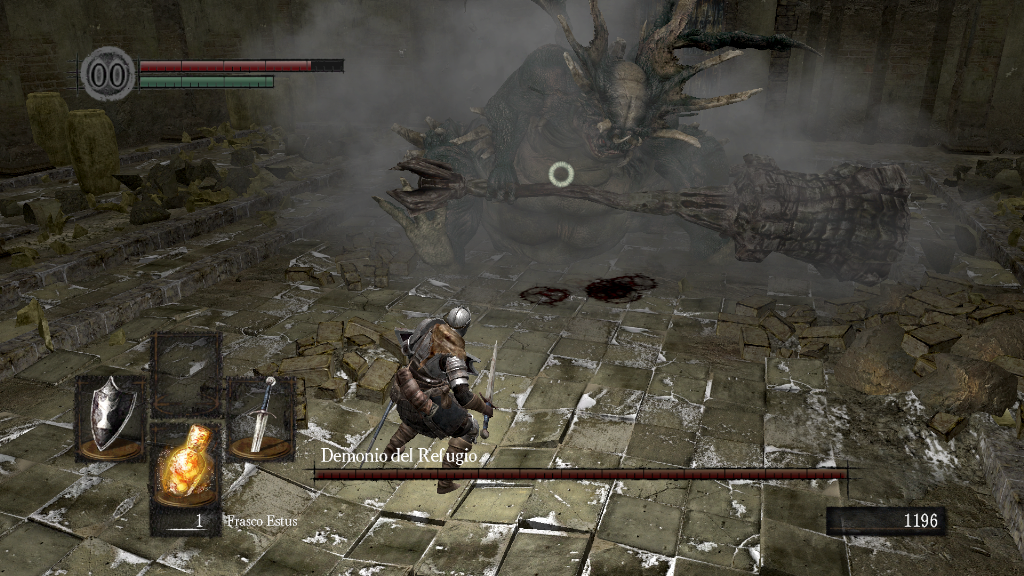asylumDemon: (368, 3, 910, 317)
bossHP: (314, 469, 847, 479)
health: (138, 58, 343, 71)
humanity: (80, 45, 136, 102)
player: (375, 300, 500, 499)
souls: (825, 506, 945, 536)
stamina: (138, 74, 274, 88)
